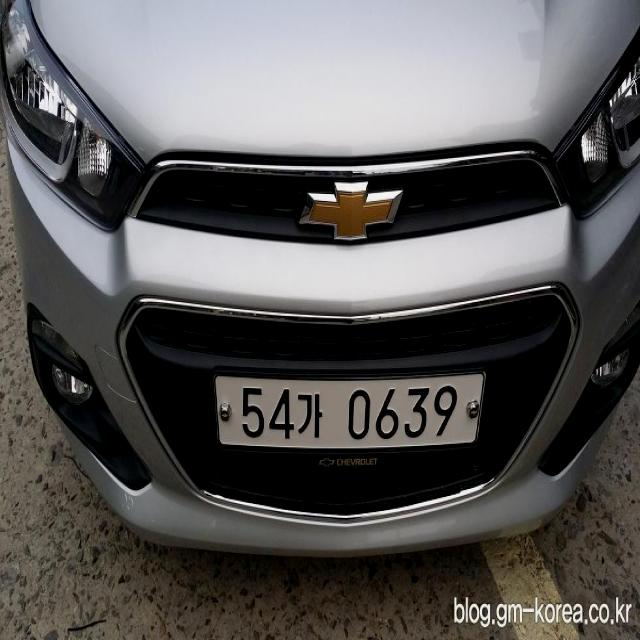illegal_plate: (213, 370, 488, 470)
